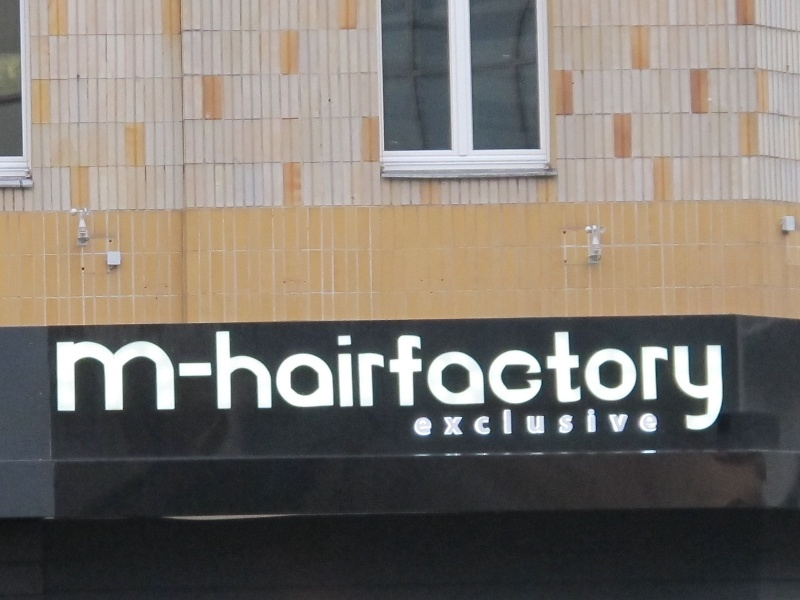text: (65, 319, 80, 441), (81, 319, 96, 441), (97, 319, 112, 441), (113, 319, 128, 441), (129, 319, 144, 441), (145, 319, 160, 441), (161, 319, 176, 441), (177, 319, 192, 441), (193, 319, 208, 441), (209, 319, 224, 441), (225, 319, 240, 441), (241, 319, 256, 441), (257, 319, 272, 441), (273, 319, 288, 441), (289, 319, 304, 441), (305, 319, 320, 441), (321, 319, 336, 441), (337, 319, 352, 441), (353, 319, 368, 441), (369, 319, 384, 441), (385, 319, 400, 441), (401, 319, 416, 441), (417, 319, 432, 441), (433, 319, 448, 441), (449, 319, 464, 441), (465, 319, 480, 441), (481, 319, 496, 441), (497, 319, 512, 441), (513, 319, 528, 441), (529, 319, 544, 441), (545, 319, 560, 441), (561, 319, 576, 441), (577, 319, 592, 441), (593, 319, 608, 441), (609, 319, 624, 441), (625, 319, 640, 441), (641, 319, 656, 441), (657, 319, 672, 441), (673, 319, 688, 441), (689, 319, 704, 441), (705, 319, 720, 441), (54, 319, 64, 441), (721, 319, 727, 441), (417, 406, 432, 437), (433, 406, 448, 437), (449, 406, 464, 437), (465, 406, 480, 437), (481, 406, 496, 437), (497, 406, 512, 437), (513, 406, 528, 437), (529, 406, 544, 437), (545, 406, 560, 437), (561, 406, 576, 437), (577, 406, 592, 437), (593, 406, 608, 437), (609, 406, 624, 437), (625, 406, 640, 437), (641, 406, 656, 437), (414, 406, 416, 437), (657, 406, 658, 437)
